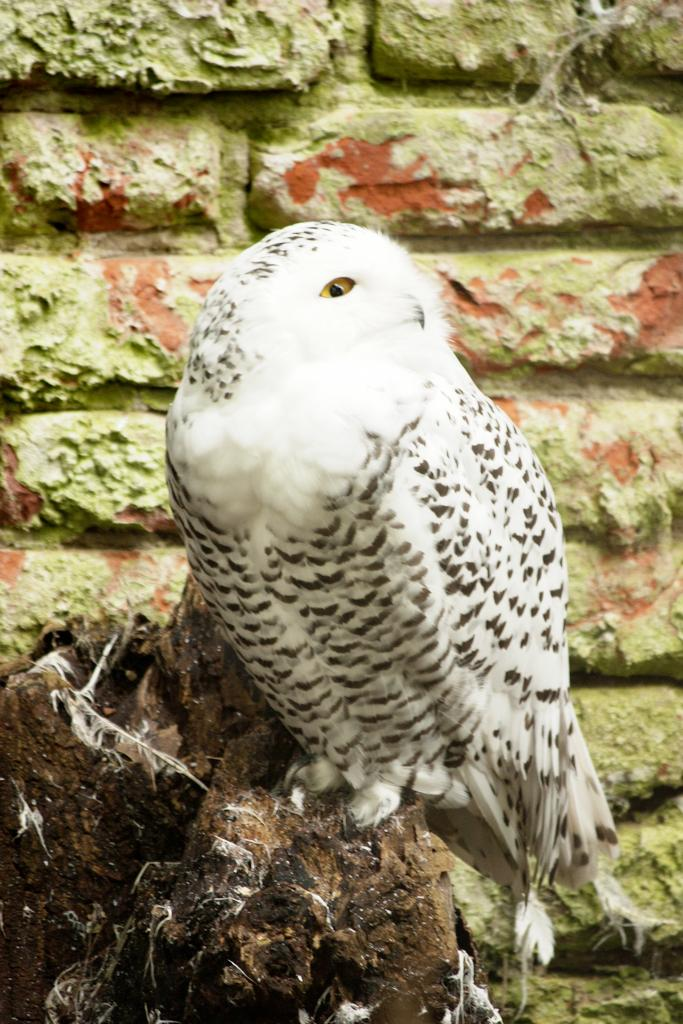Owl: (156, 216, 621, 974)
